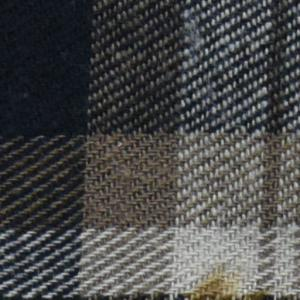Oil Stain: (187, 261, 273, 300)
